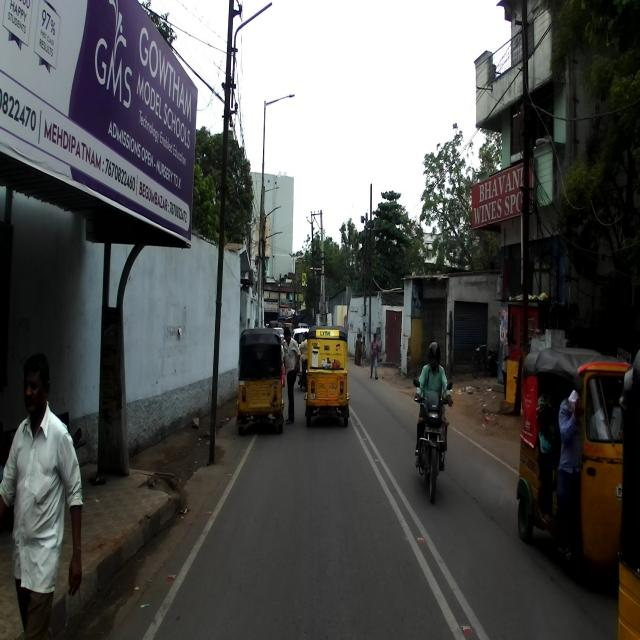autorickshaw: (516, 344, 633, 592), (235, 327, 284, 434), (306, 328, 351, 424)
motorcycle: (412, 377, 453, 504)
